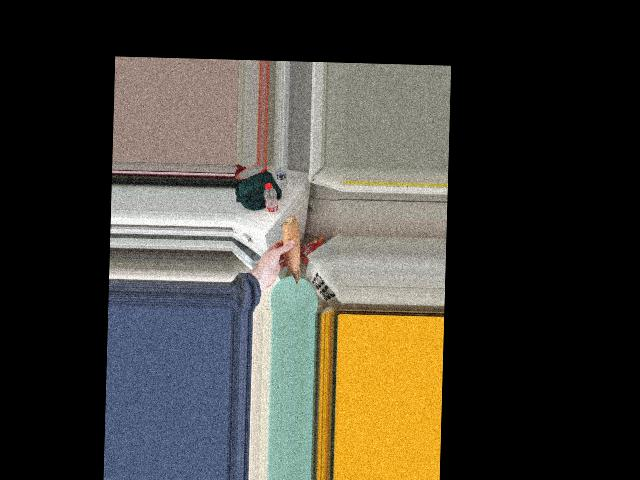sweet_potato: (280, 218, 306, 283)
